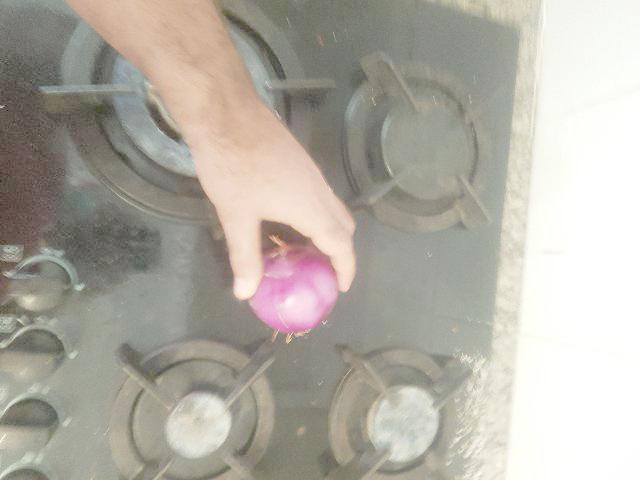onion: (401, 310, 480, 393)
